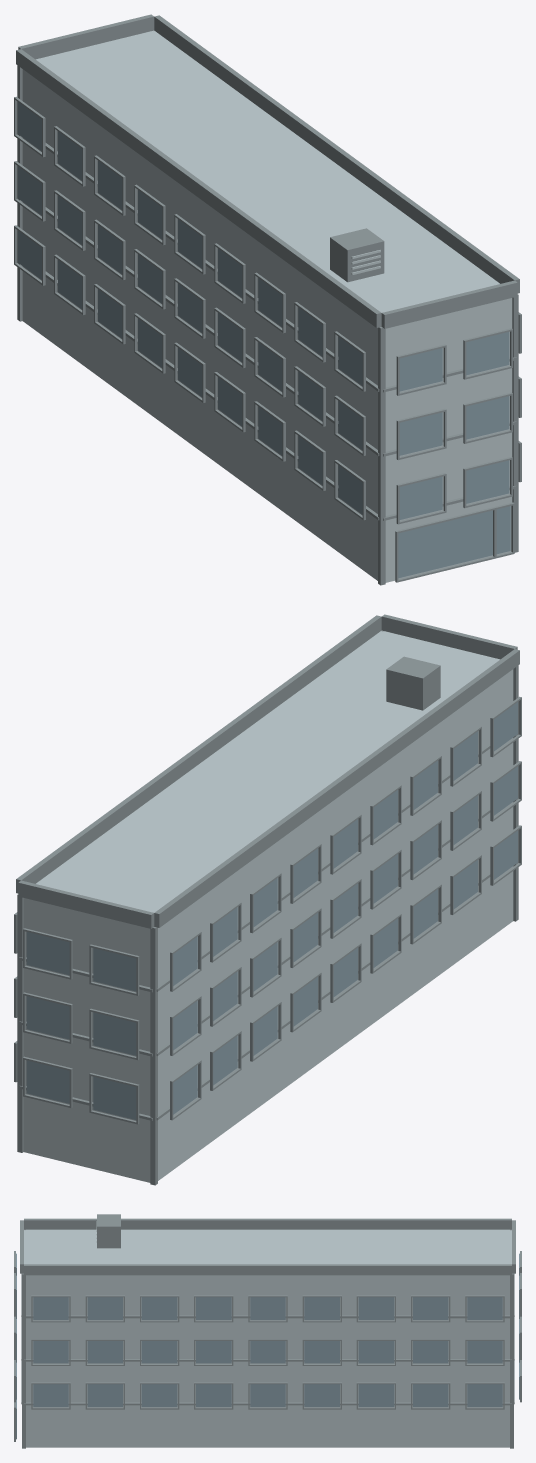
The model's file is lot_1x4_slab.glb.
3 views of the same model, one above another, from view 1: azimuth 30°, elevation 25°; view 2: azimuth 150°, elevation 25°; view 3: azimuth 270°, elevation 25° (orthographic). The views are drawn at different scales.
Visible parts, largest first — view 1: lot_1x4_slab; view 2: lot_1x4_slab; view 3: lot_1x4_slab.
Part boxes in pixels (x1,y1,x2,y2): lot_1x4_slab: (14, 14, 521, 585); lot_1x4_slab: (14, 614, 521, 1185); lot_1x4_slab: (14, 1214, 521, 1448).
Size of the model in its own units: 7.74 by 13.5 by 31.74.
